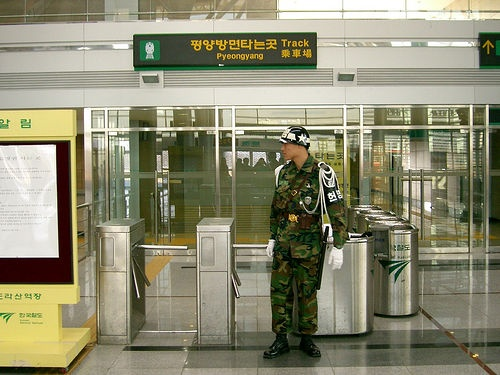head: (278, 126, 311, 162)
person: (262, 120, 345, 363)
